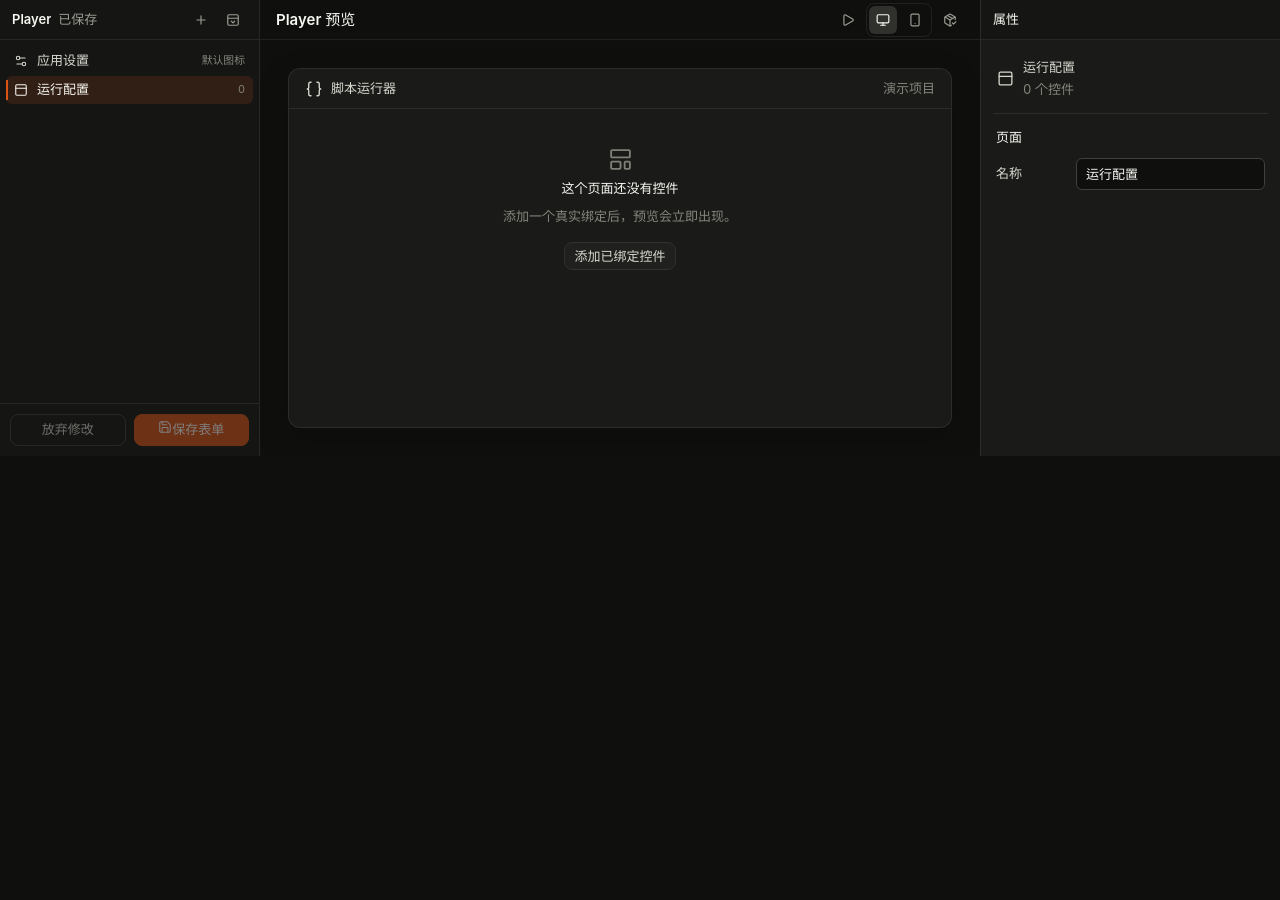
Test: VNextPlayerWorkspace schema3 authoring › 项目草稿未通过检查时用正常不可用状态解释绑定来源
Click the button named "添加已绑定控件": x=233, y=20 [219, 6, 247, 34]
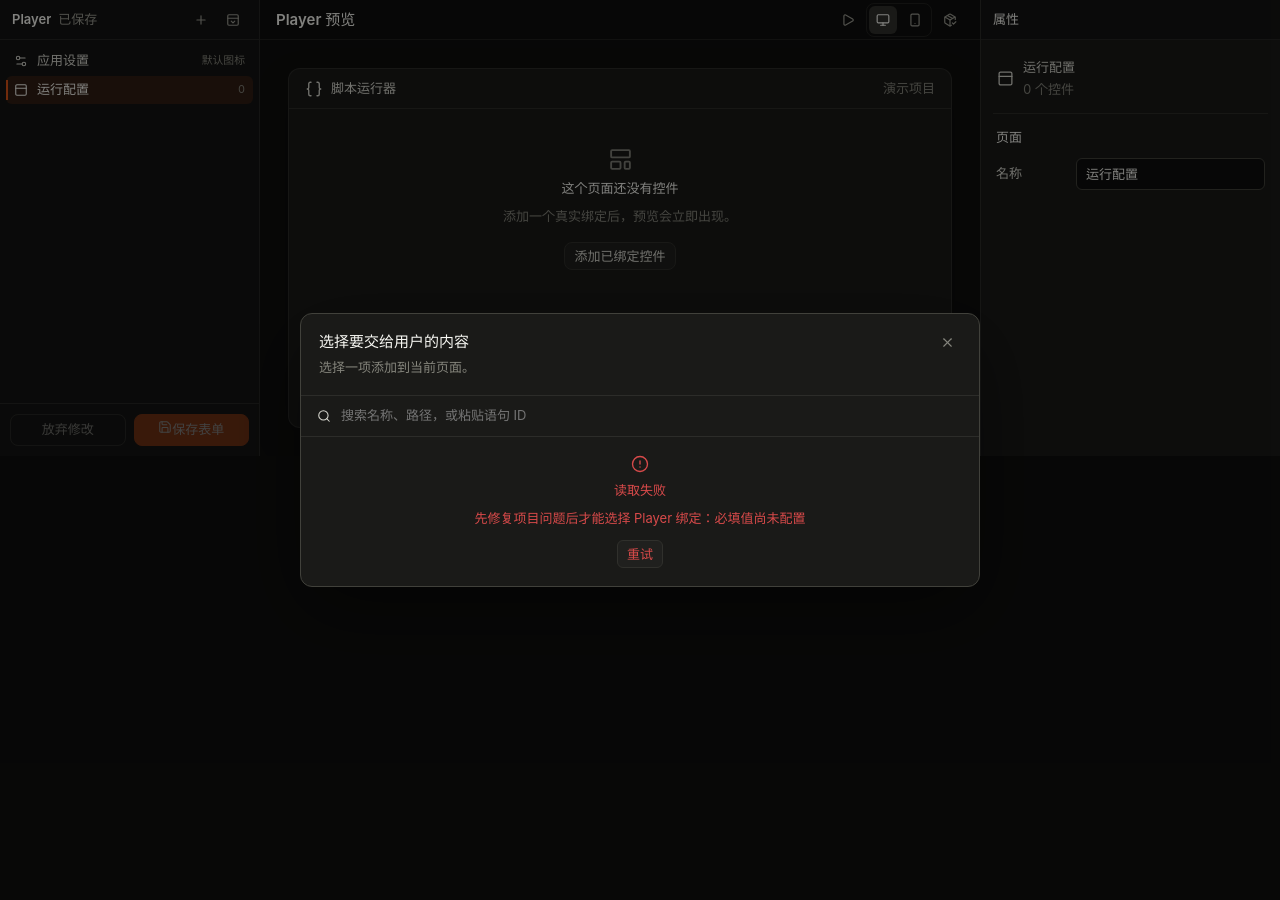
expect the message with class "error" shows "必填值尚未配置": met, box [474, 510, 806, 526]
